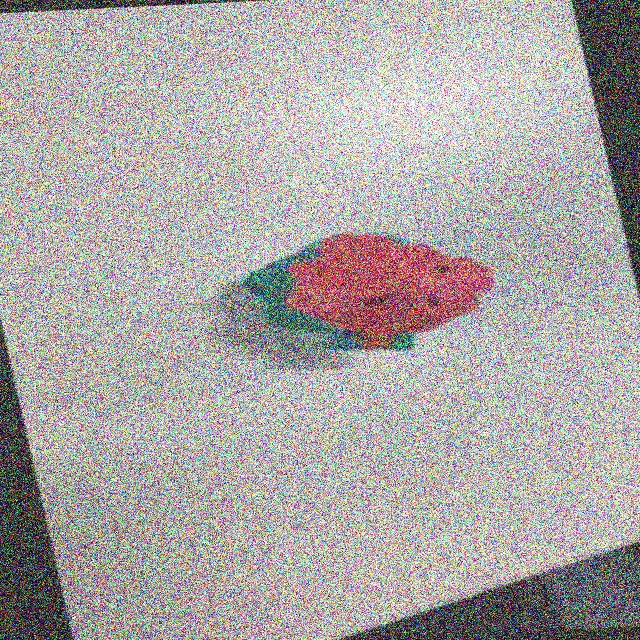House: (215, 225, 512, 360)
